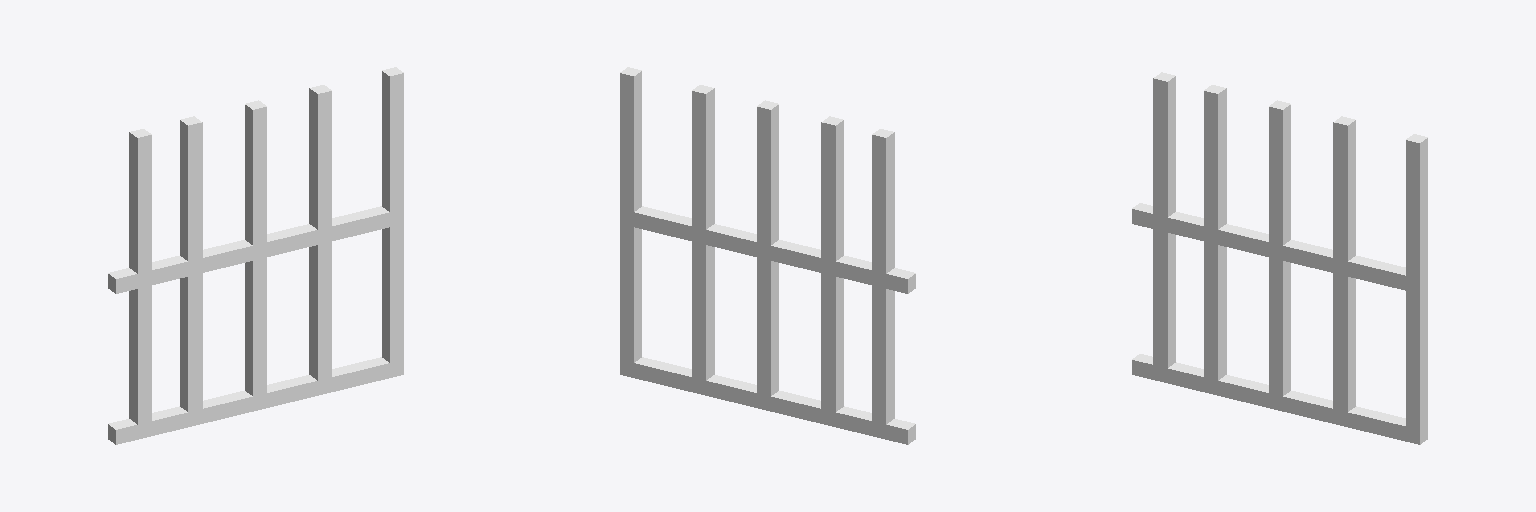
Rendered from BottomFencesLeft.obj.
The picture shows the model from 3 angles: view 1: azimuth 30°, elevation 25°; view 2: azimuth 150°, elevation 25°; view 3: azimuth 330°, elevation 25°; orthographic projection.
Parts seen in each view (by area): view 1: object 1; view 2: object 1; view 3: object 1.
Boxes of the visible parts, x1=… form: object 1: x1=108, y1=67, x2=403, y2=444; object 1: x1=620, y1=67, x2=915, y2=444; object 1: x1=1132, y1=72, x2=1427, y2=444.
Size of the model in its own units: 4 by 4 by 0.2.